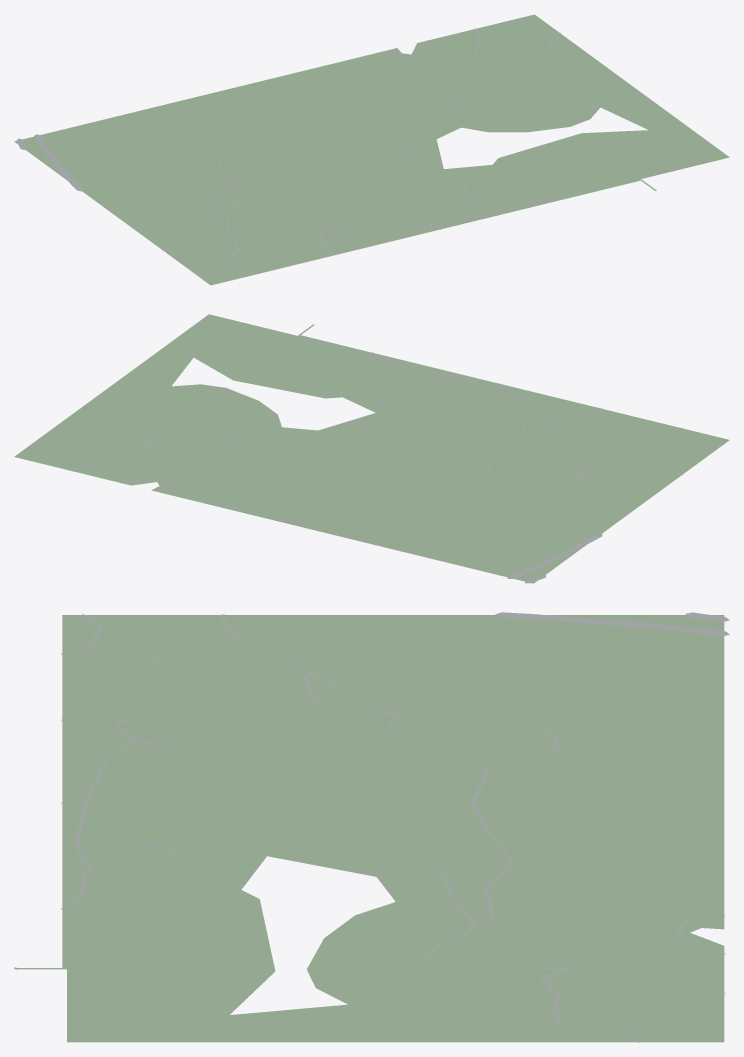
File: -6_4-known-fine.glb
The picture shows the model from 3 angles, top to bottom: view 1: azimuth 30°, elevation 25°; view 2: azimuth 150°, elevation 25°; view 3: azimuth 270°, elevation 25°; orthographic projection. The views are drawn at different scales.
Bounding box in the file's own units: 1007 × 0.1 × 708.
